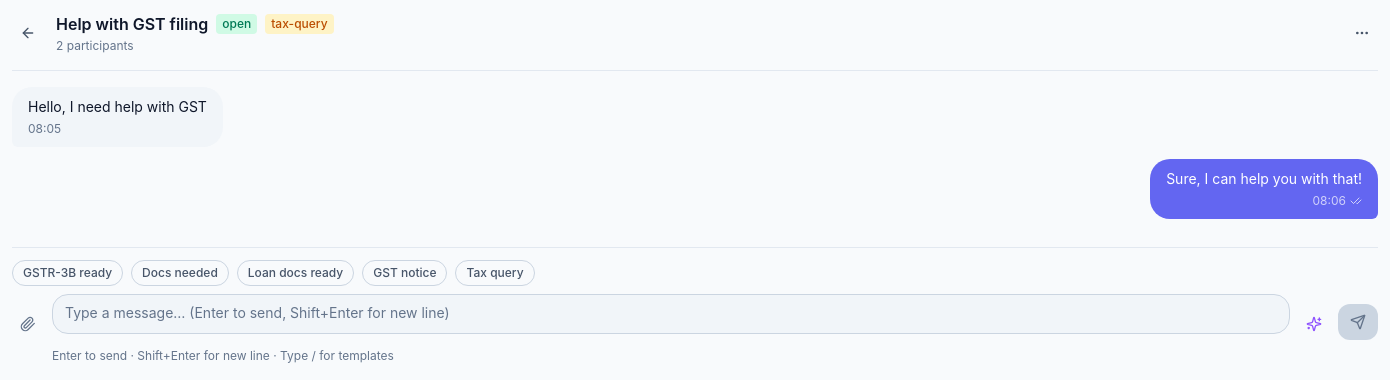
Scenario: ChatThreadDetailPage › send button enables when textarea has text
Type "Hello!" into the text box with placeholder "Type a message… (Enter to send, Shift+Enter for new line)". click: (671, 314)
box: [52,294,1290,334]
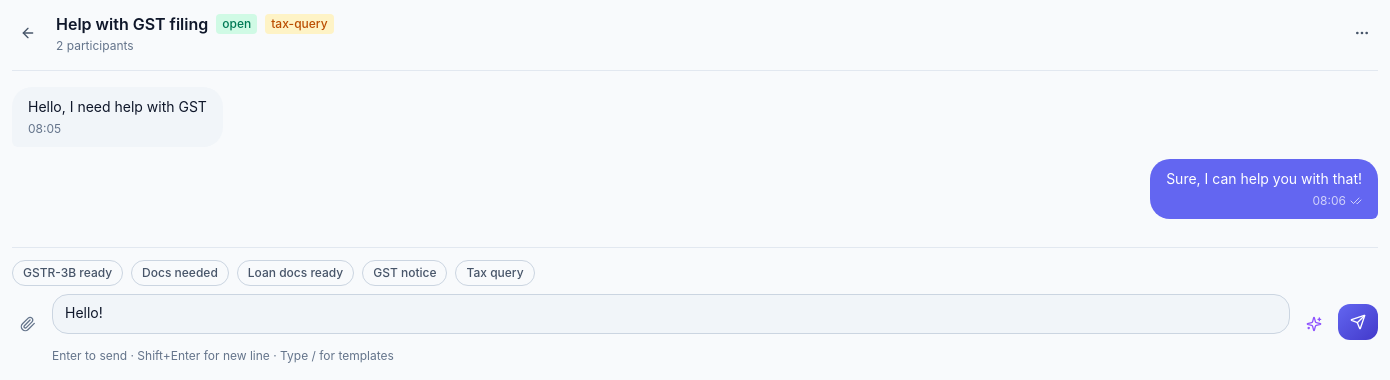
Check: the button named "Send message" is enabled, box [1338,304,1378,340]
